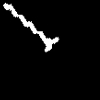half_double_crochet: (3, 3, 58, 51)
